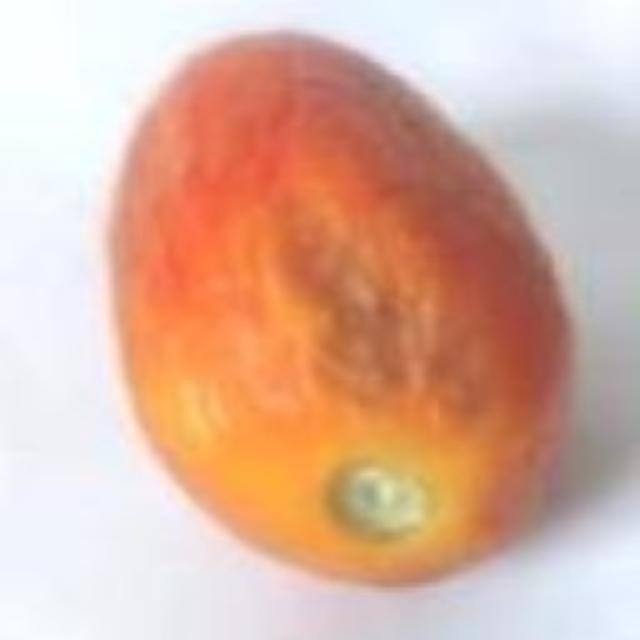defect: (105, 23, 580, 592)
